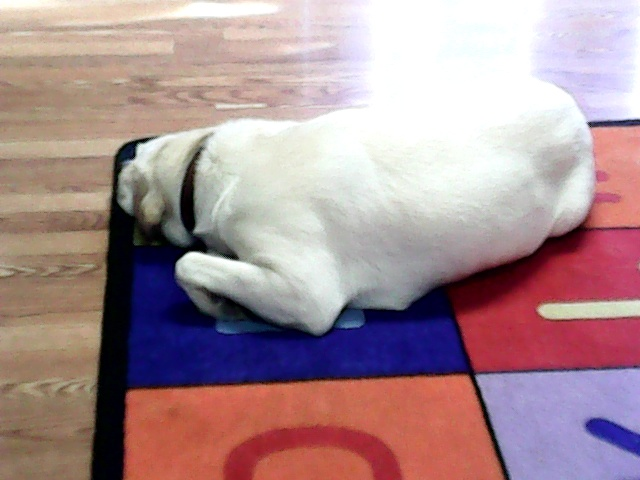dog: (114, 63, 594, 335)
